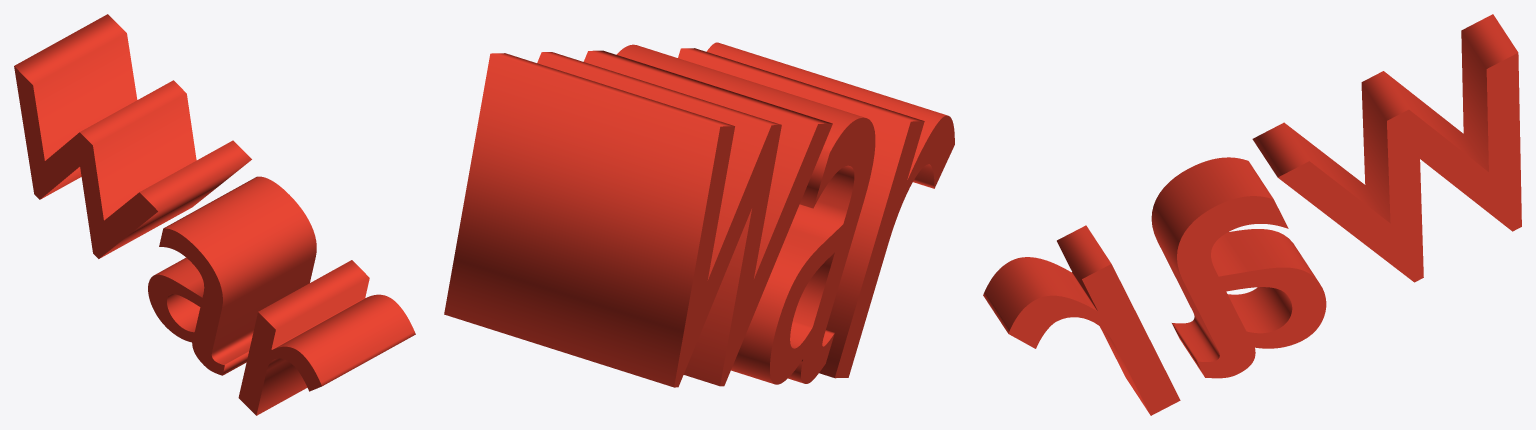
Rendered from war.glb.
3 renders of one model, left to right at view 1: azimuth 30°, elevation 25°; view 2: azimuth 150°, elevation 25°; view 3: azimuth 270°, elevation 25°, orthographic. The views are drawn at different scales.
Visible parts, largest first — view 1: Text.008; view 2: Text.008; view 3: Text.008.
Boxes of the visible parts, x1=… form: Text.008: x1=14, y1=14, x2=415, y2=415; Text.008: x1=444, y1=42, x2=954, y2=387; Text.008: x1=983, y1=14, x2=1521, y2=415.
Bounding box in the file's own units: 3.21 × 4.28 × 6.26.
